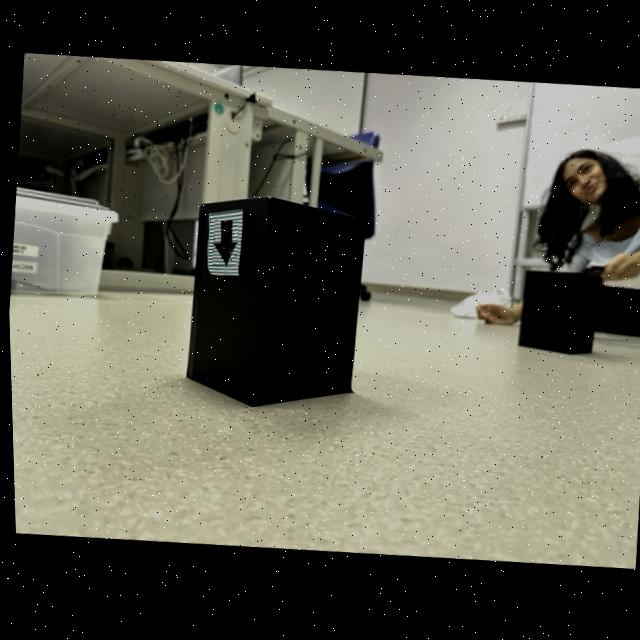DOWN: (212, 222, 236, 267)
